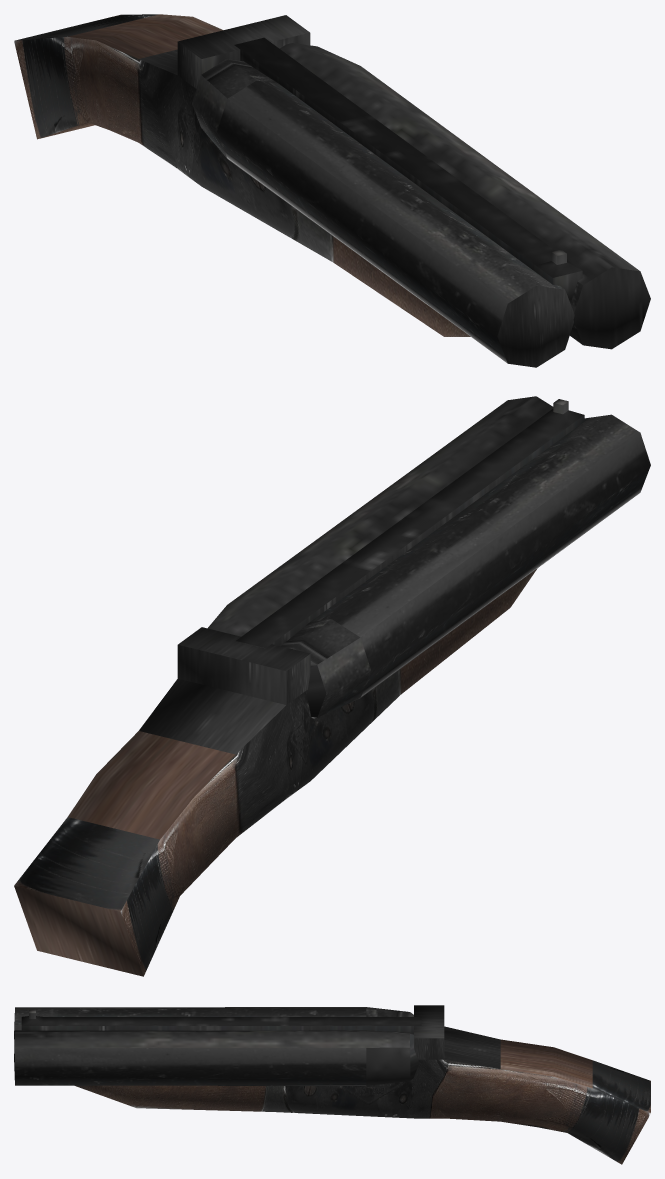
The model's file is sawdoff.fbx.
3 views of the same model, one above another, from view 1: azimuth 30°, elevation 25°; view 2: azimuth 150°, elevation 25°; view 3: azimuth 270°, elevation 25° (orthographic). The views are drawn at different scales.
Parts seen in each view (by area): view 1: Plane.001, Cube.001, Plane, Cube.002; view 2: Cube.001, Plane.001, Plane, Cube.002; view 3: Cube.001, Plane, Cube.002, Plane.001.
Part boxes in pixels (x1=…): Plane.001: x1=192, y1=59, x2=574, y2=367; Cube.001: x1=14, y1=14, x2=470, y2=336; Plane: x1=280, y1=43, x2=650, y2=349; Cube.002: x1=234, y1=37, x2=582, y2=303; Cube.001: x1=14, y1=568, x2=537, y2=976; Plane.001: x1=281, y1=414, x2=650, y2=718; Plane: x1=207, y1=396, x2=553, y2=636; Cube.002: x1=236, y1=399, x2=584, y2=648; Cube.001: x1=75, y1=1005, x2=650, y2=1164; Plane: x1=14, y1=1030, x2=419, y2=1085; Cube.002: x1=21, y1=1010, x2=421, y2=1033; Plane.001: x1=14, y1=1007, x2=413, y2=1044.
Bounding box in the file's own units: 112 × 150 × 635.
Materials: 1 (1 with a texture image).
